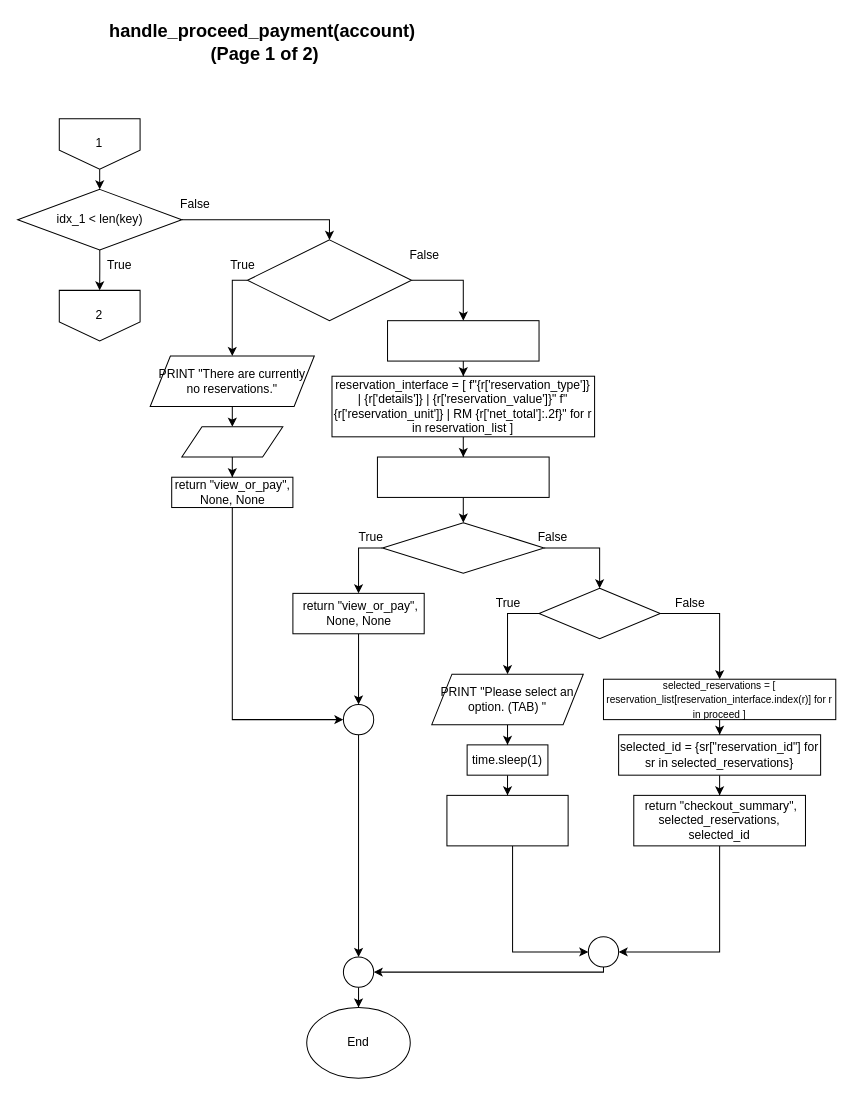
The diagram is 853 pixels wide and 1096 high, and some of its shapes have lost their labels. Each missing label, with the centre of its shape:
INPUT: (232,441)
not proceed: (599,613)
not reservation_list: (329,280)
proceed = checkbox("", reservation_interface): (462,476)
proceed == "BACK": (462,547)
reservation_list.sort(key=lambda r: r["reservation_type"]): (463,340)
return "proceed_payment", None, None: (507,820)
